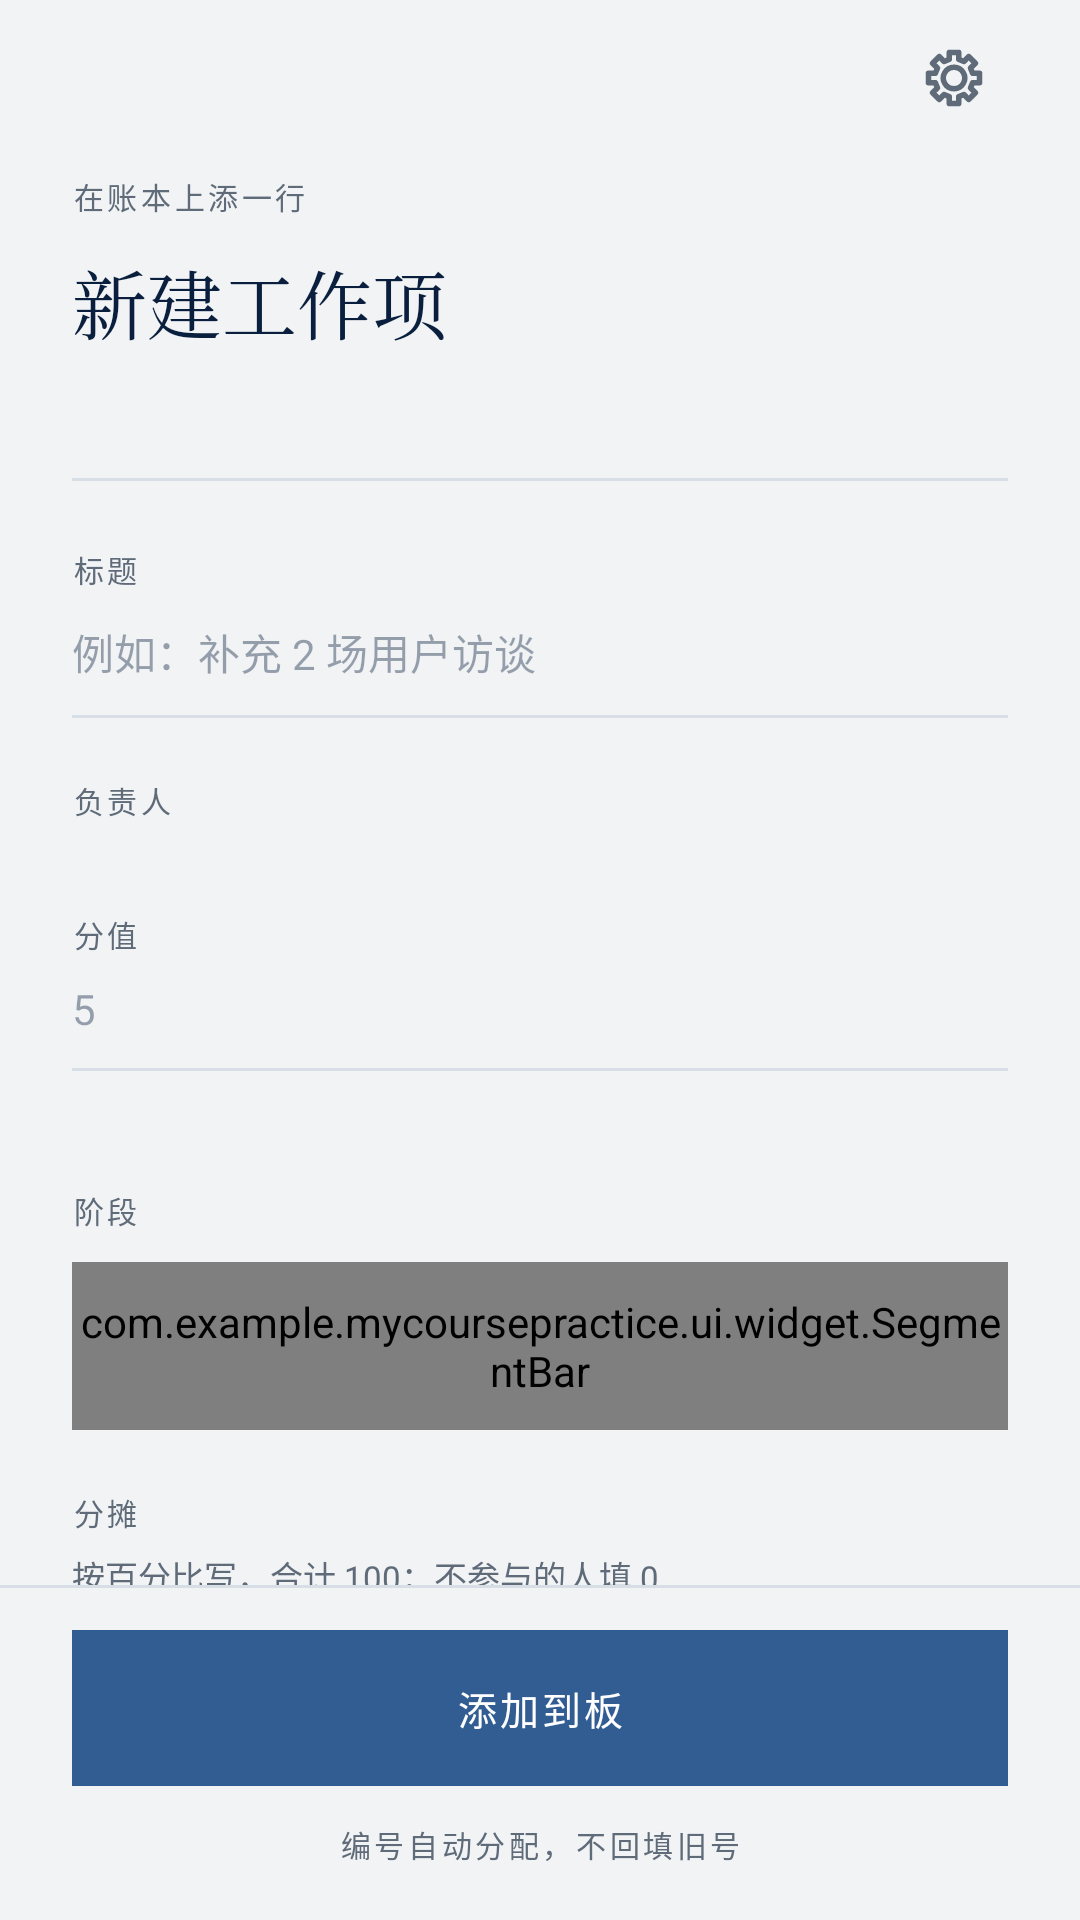

Icons on this 1080px x 1920px Android screen, each with the point to tap as point (x, y):
设置: point (954, 78)
